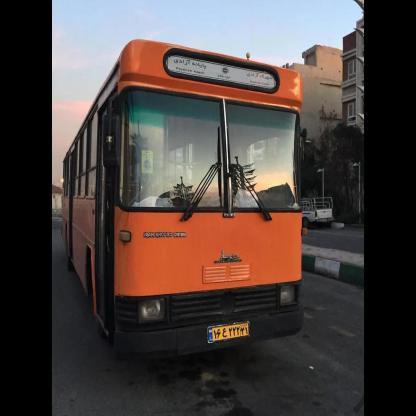Bus: (64, 38, 304, 372)
Car: (306, 199, 337, 230)
